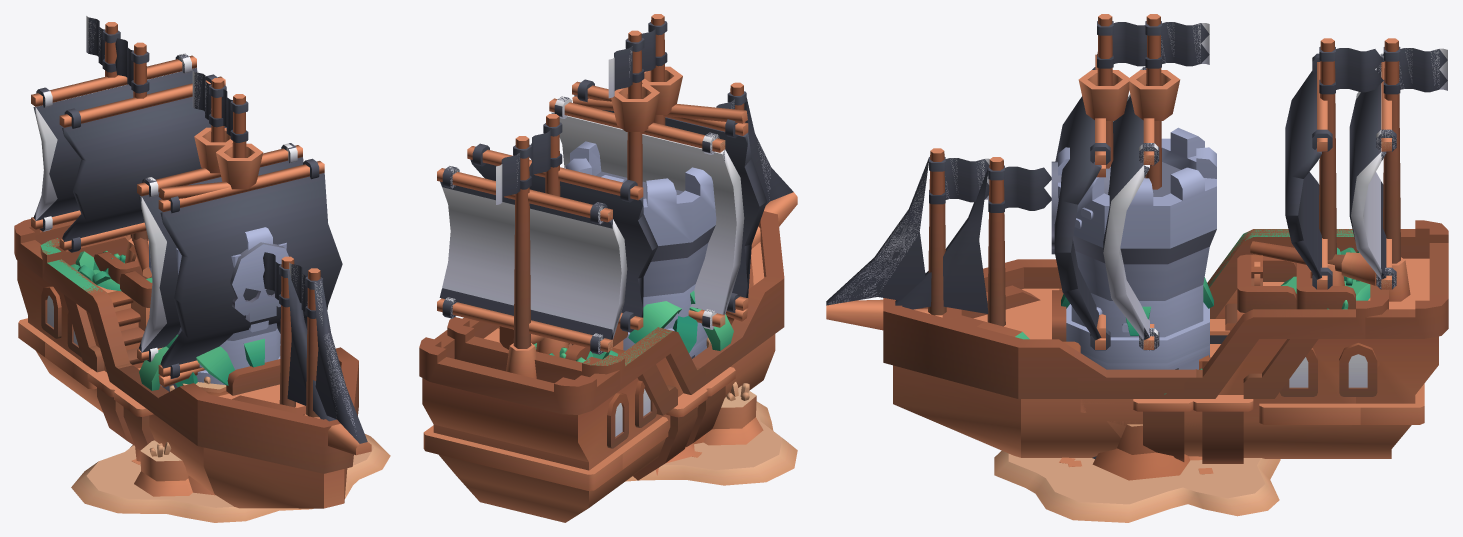
File: pirate.glb
3 views of the same model, side by side, from view 1: azimuth 30°, elevation 25°; view 2: azimuth 150°, elevation 25°; view 3: azimuth 270°, elevation 25° (orthographic). The views are drawn at different scales.
Parts seen in each view (by area): view 1: ship-pirate-large, sail-a (×4), sail-b (×3), ship-pirate-medium, patch-sand, flag-c (×4), ship-wreck, rocks-sand-a, tower-complete-small, palm-detailed-bend, Group (×2), flag-a (+2 smaller); view 2: ship-pirate-large, sail-b (×3), sail-a (×4), ship-pirate-medium, tower-complete-small, ship-wreck, patch-sand, flag-c (×3), rocks-sand-a, palm-detailed-bend, flag-b; view 3: ship-pirate-large, ship-pirate-medium, tower-complete-small, sail-b (×3), sail-a (×3), patch-sand, ship-wreck, flag-c (×4), rocks-sand-a, flag-a, flag-b, Group (+2 smaller).
Boxes of the visible parts, x1=… form: ship-pirate-large: x1=14, y1=22, x2=371, y2=508; sail-a (×4): x1=137, y1=143, x2=342, y2=387; sail-b (×3): x1=31, y1=53, x2=226, y2=252; ship-pirate-medium: x1=40, y1=42, x2=336, y2=451; patch-sand: x1=71, y1=434, x2=390, y2=522; flag-c (×4): x1=88, y1=17, x2=323, y2=318; ship-wreck: x1=40, y1=101, x2=320, y2=450; rocks-sand-a: x1=131, y1=376, x2=226, y2=496; tower-complete-small: x1=149, y1=227, x2=286, y2=386; palm-detailed-bend: x1=139, y1=346, x2=234, y2=390; Group (×2): x1=70, y1=234, x2=151, y2=284; flag-a: x1=263, y1=252, x2=289, y2=307; ship-pirate-large: x1=419, y1=30, x2=797, y2=522; sail-b (×3): x1=437, y1=143, x2=657, y2=354; sail-a (×4): x1=549, y1=79, x2=767, y2=329; ship-pirate-medium: x1=447, y1=14, x2=760, y2=469; tower-complete-small: x1=565, y1=141, x2=716, y2=350; ship-wreck: x1=447, y1=17, x2=756, y2=448; patch-sand: x1=625, y1=401, x2=797, y2=485; flag-c (×3): x1=501, y1=38, x2=644, y2=197; rocks-sand-a: x1=691, y1=382, x2=763, y2=457; palm-detailed-bend: x1=628, y1=301, x2=733, y2=352; flag-b: x1=641, y1=21, x2=667, y2=71; ship-pirate-large: x1=826, y1=14, x2=1448, y2=463; ship-pirate-medium: x1=895, y1=14, x2=1388, y2=461; tower-complete-small: x1=1058, y1=127, x2=1216, y2=458; sail-b (×3): x1=1285, y1=53, x2=1396, y2=289; sail-a (×3): x1=1051, y1=67, x2=1159, y2=350; patch-sand: x1=994, y1=450, x2=1280, y2=522; ship-wreck: x1=916, y1=17, x2=1388, y2=461; flag-c (×4): x1=929, y1=21, x2=1447, y2=204; rocks-sand-a: x1=1059, y1=424, x2=1190, y2=480; flag-a: x1=988, y1=165, x2=1051, y2=212; flag-b: x1=1097, y1=21, x2=1146, y2=68; Group: x1=1250, y1=241, x2=1376, y2=286.
Bounding box in the file's own units: 7.74 × 9.96 × 13.1.
1 material, 1 textured.
